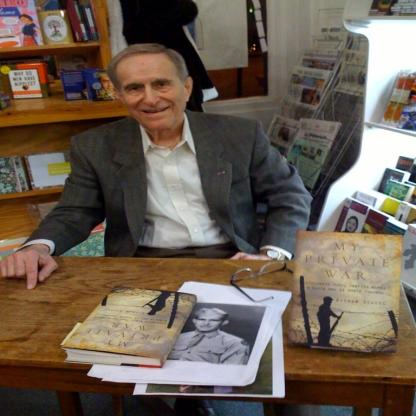book: (290, 229, 403, 352), (334, 153, 416, 292), (58, 294, 198, 370), (0, 218, 105, 265), (0, 0, 99, 47), (0, 149, 70, 196), (0, 53, 51, 104), (377, 68, 415, 134), (59, 67, 123, 103), (368, 0, 416, 15)
